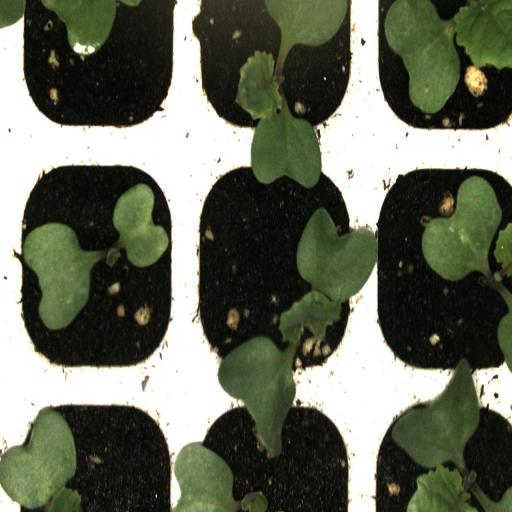seedling: (182, 152, 368, 388), (10, 154, 186, 386), (367, 148, 512, 386), (186, 0, 364, 147), (369, 0, 512, 145)
